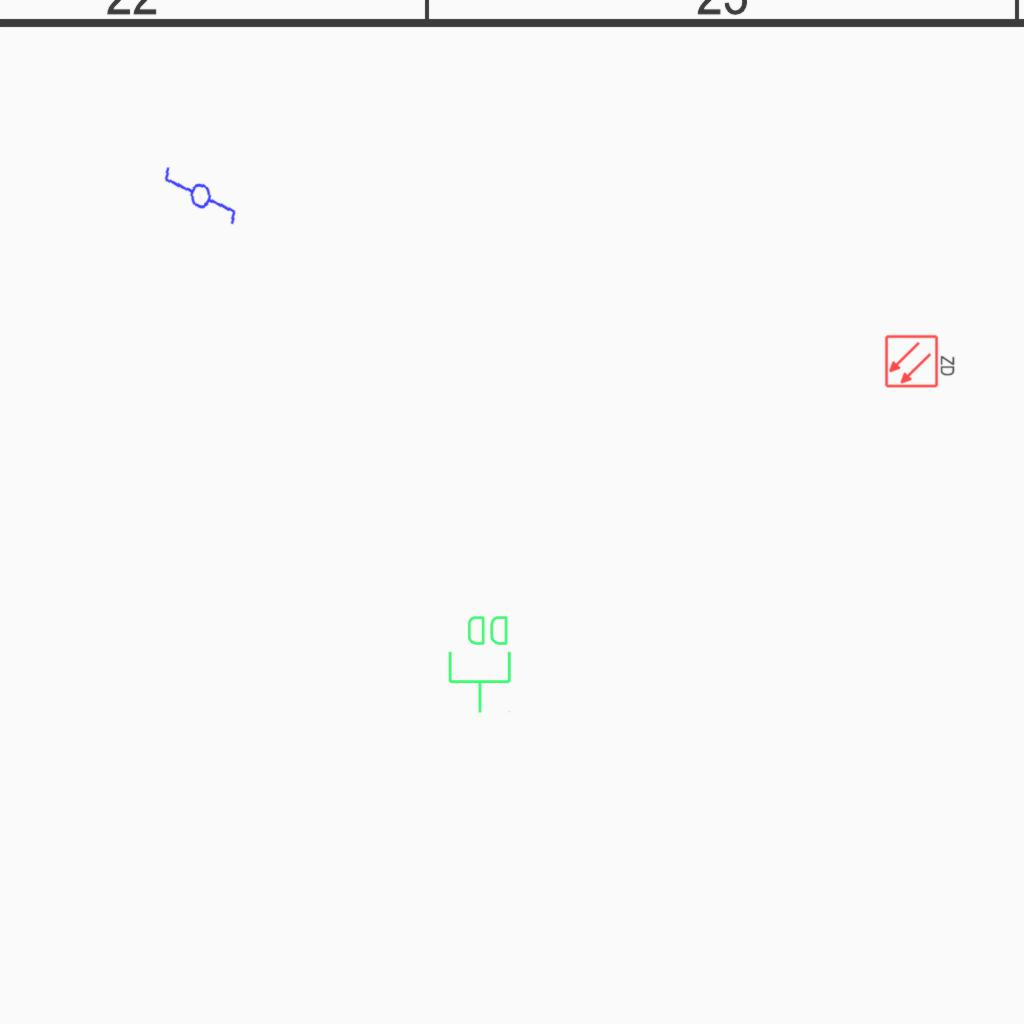Datenanschluss_zweifach: (446, 612, 515, 715)
Wechselschalter: (159, 156, 241, 244)
ZD_Melder_in_Zwischendecke_mit_Revisionsoeffnung_mind_40_x_40_cm: (884, 332, 958, 389)
